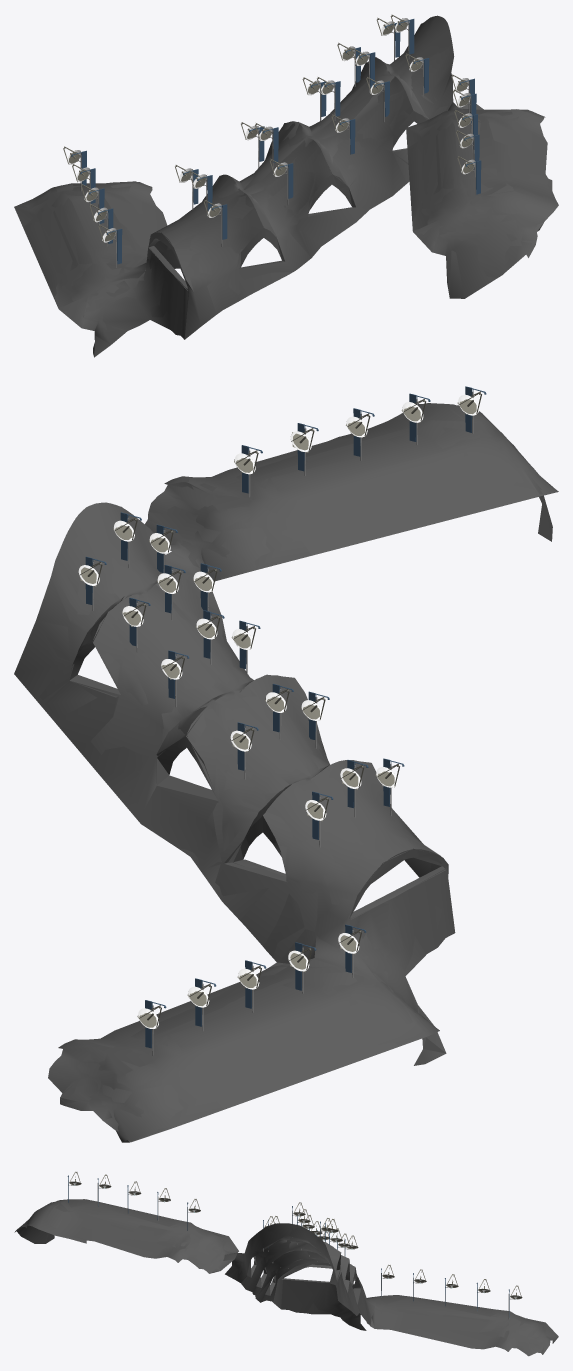
File: Overlay_4th_Gal_Bottom.glb
The picture shows the model from 3 angles, top to bottom: view 1: azimuth 30°, elevation 25°; view 2: azimuth 150°, elevation 25°; view 3: azimuth 270°, elevation 25°; orthographic projection. The views are drawn at different scales.
Parts seen in each view (by area): view 1: Overlay_4thGal_Bottom, Overlay_4thGal_Bottom.001, LightTubes_5thGalLower_LEDs, LightTubes_5thGalLower_Mirrors, LightTubes_5thGalLower_Mirrors.002, LightTubes_5thGalLower_Mirrors.001, LightTubes_4thGal_Bottom_Bases, LightTubes_4thGal_Bottom_Bases.001, LightTubes_5thGalLower_LEDs.001; view 2: Overlay_4thGal_Bottom, Overlay_4thGal_Bottom.001, LightTubes_5thGalLower_LEDs, LightTubes_5thGalLower_Mirrors.002, LightTubes_5thGalLower_Mirrors, LightTubes_5thGalLower_Mirrors.001, LightTubes_5thGalLower_LEDs.001, LightTubes_4thGal_Bottom_Bases; view 3: Overlay_4thGal_Bottom, Overlay_4thGal_Bottom.001, LightTubes_5thGalLower_Mirrors, LightTubes_5thGalLower_LEDs, LightTubes_4thGal_Bottom_Bases, LightTubes_5thGalLower_Mirrors.002.
Part boxes in pixels (<box>): Overlay_4thGal_Bottom: <box>14,16,556,356</box>; Overlay_4thGal_Bottom.001: <box>14,15,558,357</box>; LightTubes_5thGalLower_LEDs: <box>71,19,481,264</box>; LightTubes_5thGalLower_Mirrors: <box>63,14,475,242</box>; LightTubes_5thGalLower_Mirrors.002: <box>69,18,473,242</box>; LightTubes_5thGalLower_Mirrors.001: <box>68,18,475,242</box>; LightTubes_4thGal_Bottom_Bases: <box>78,21,475,267</box>; LightTubes_4thGal_Bottom_Bases.001: <box>80,28,475,259</box>; LightTubes_5thGalLower_LEDs.001: <box>72,20,476,248</box>; Overlay_4thGal_Bottom: <box>14,403,558,1142</box>; Overlay_4thGal_Bottom.001: <box>36,403,557,1142</box>; LightTubes_5thGalLower_LEDs: <box>85,386,486,1048</box>; LightTubes_5thGalLower_Mirrors.002: <box>80,399,476,1028</box>; LightTubes_5thGalLower_Mirrors: <box>78,391,481,1029</box>; LightTubes_5thGalLower_Mirrors.001: <box>79,394,480,1028</box>; LightTubes_5thGalLower_LEDs.001: <box>85,387,485,1041</box>; LightTubes_4thGal_Bottom_Bases: <box>92,391,473,1054</box>; Overlay_4thGal_Bottom: <box>14,1199,558,1355</box>; Overlay_4thGal_Bottom.001: <box>16,1199,557,1355</box>; LightTubes_5thGalLower_Mirrors: <box>69,1171,522,1299</box>; LightTubes_5thGalLower_LEDs: <box>68,1175,509,1317</box>; LightTubes_4thGal_Bottom_Bases: <box>70,1183,515,1319</box>; LightTubes_5thGalLower_Mirrors.002: <box>69,1182,521,1298</box>.
Size of what is drawn, in the model's own units: 335 by 292 by 662.
